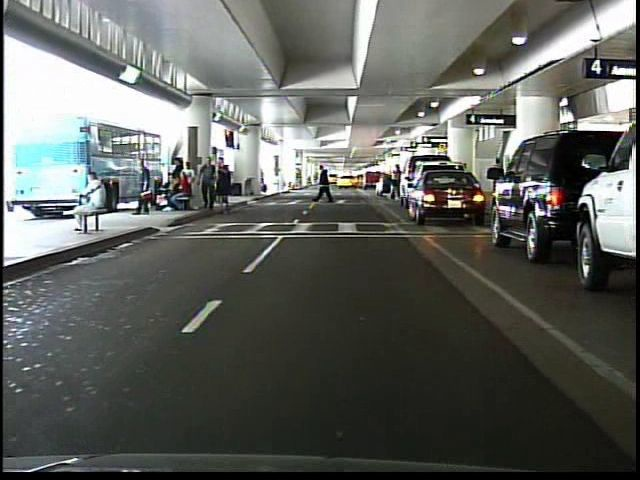person: (62, 165, 110, 237), (128, 152, 155, 219), (315, 163, 338, 208), (387, 162, 402, 200)
